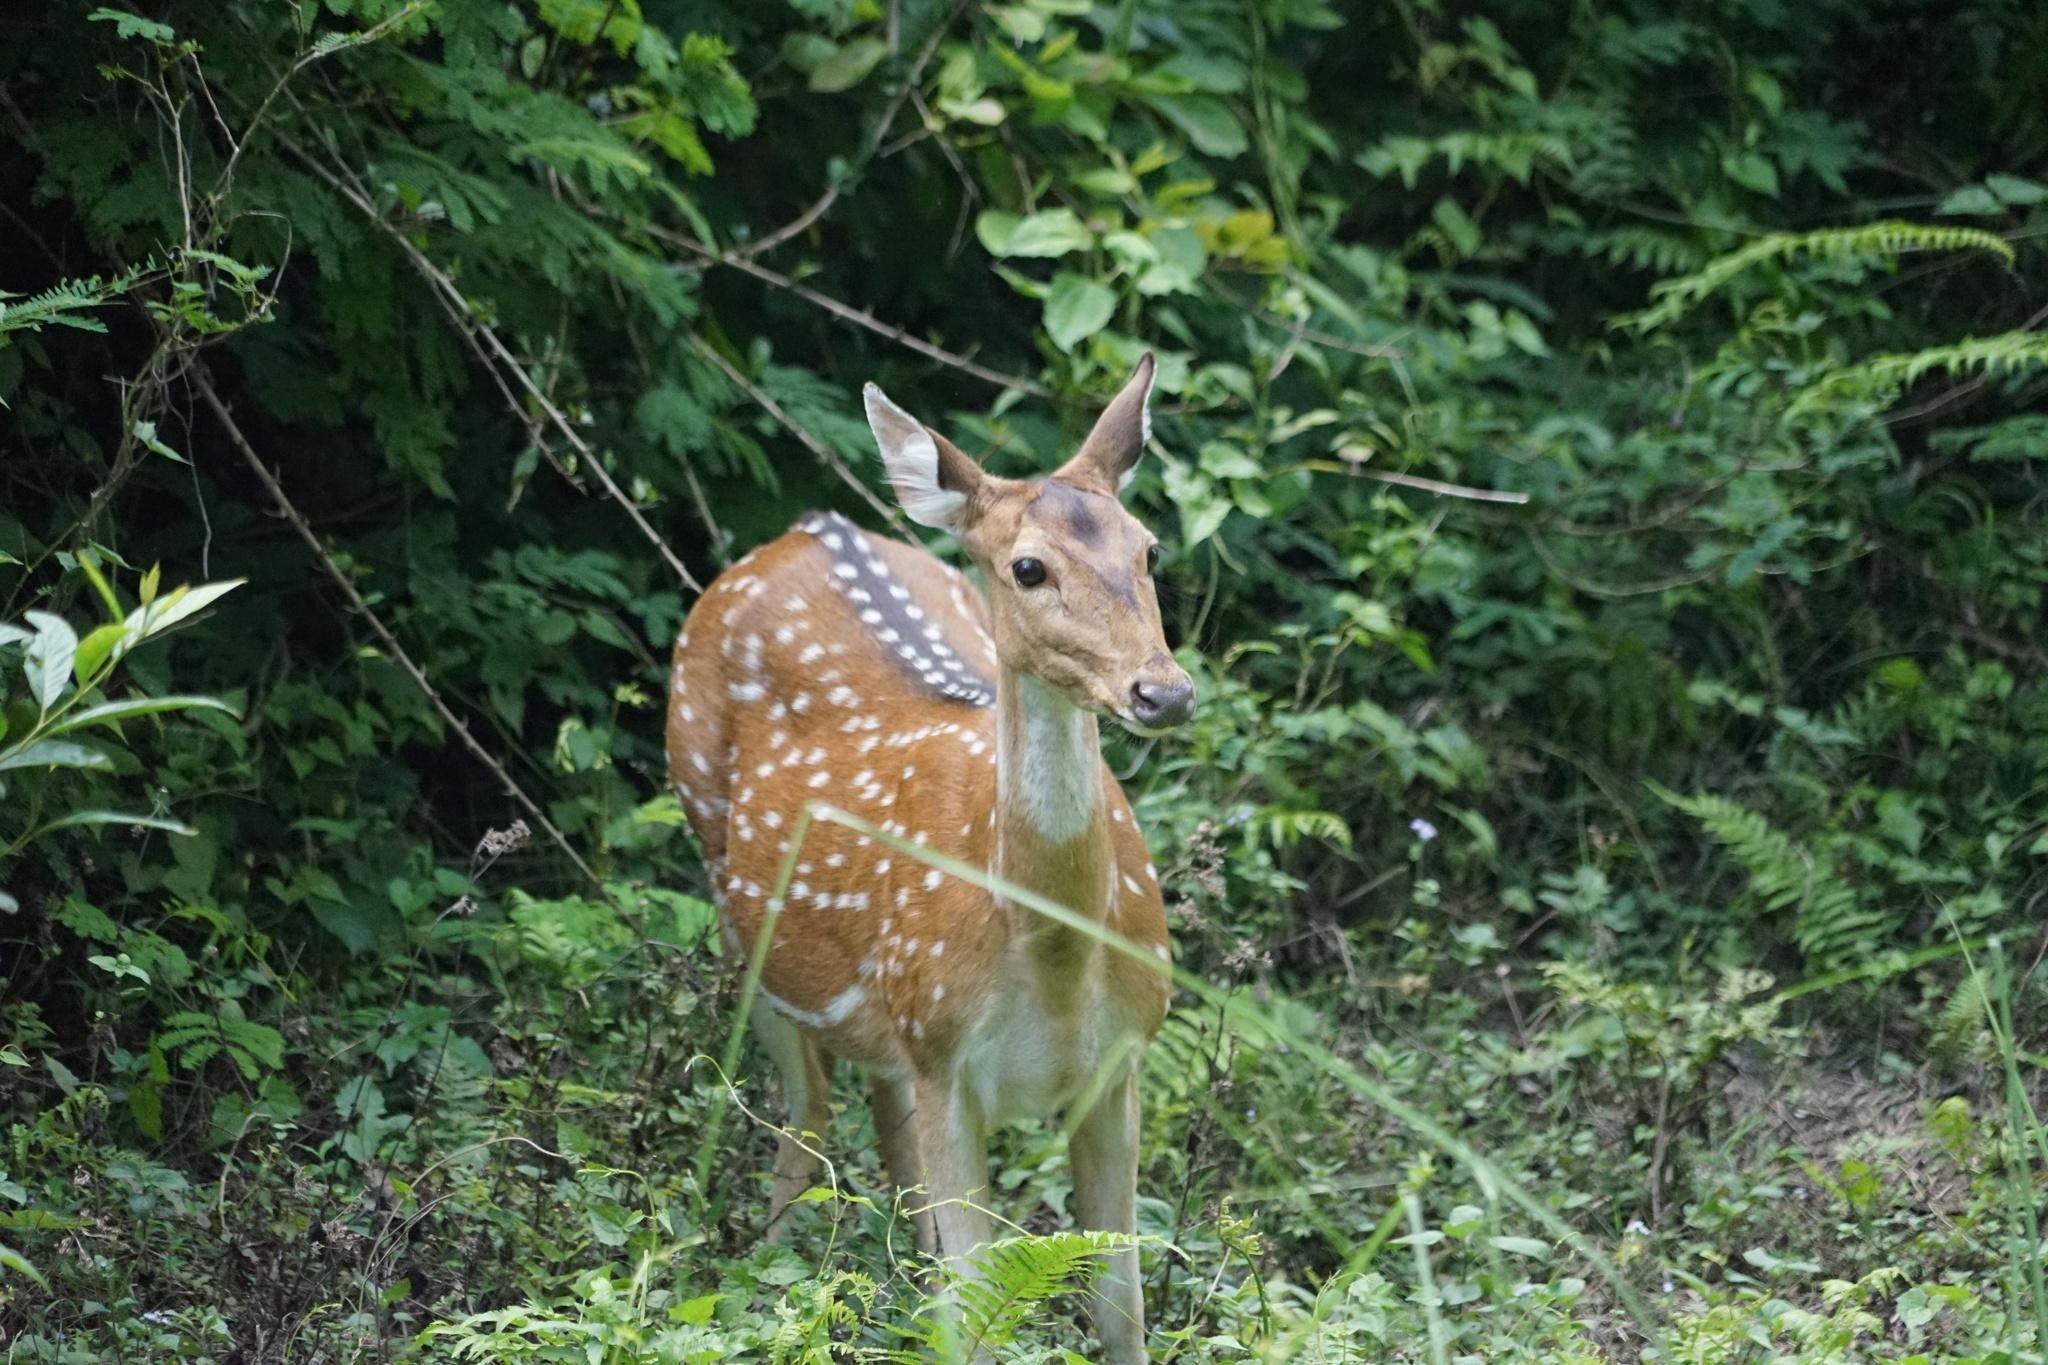Deer: (667, 353, 1192, 1255)
